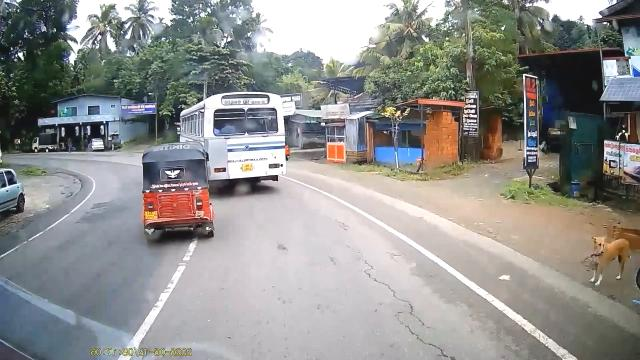illegal overtaking: (136, 143, 212, 250)
number plate: (140, 205, 163, 224)
